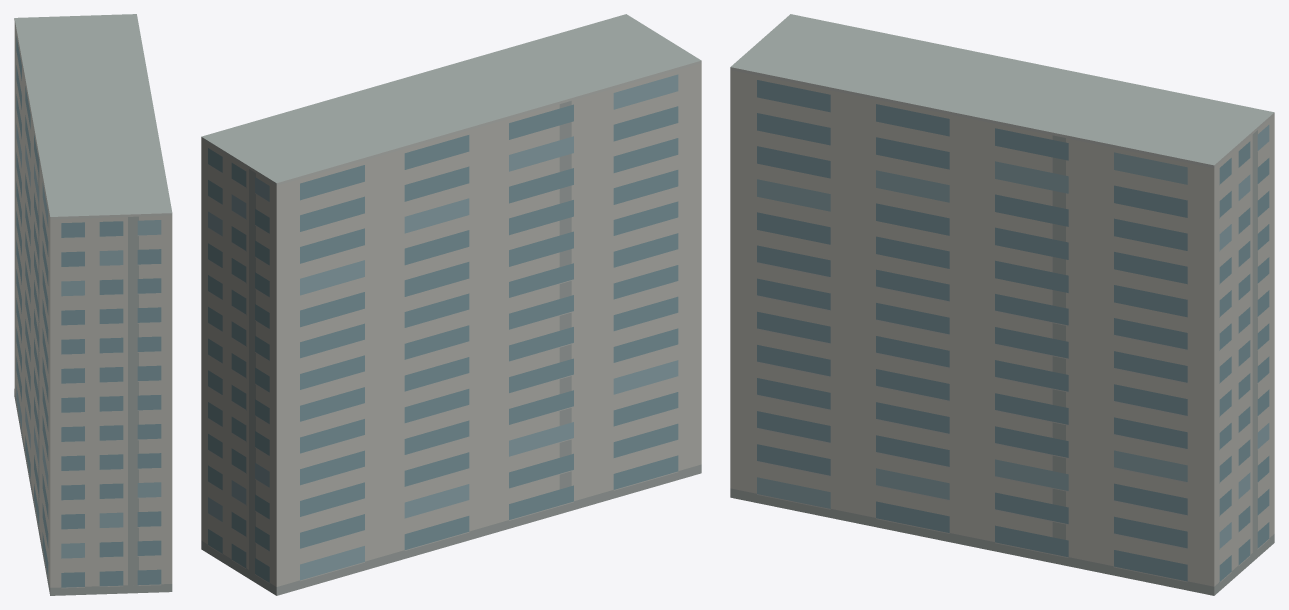
File: residential-c2d569c7-087c-4e21-99ed-72bd0e66d18b.glb
3 views of the same model, side by side, from view 1: azimuth 30°, elevation 25°; view 2: azimuth 150°, elevation 25°; view 3: azimuth 270°, elevation 25° (orthographic). The views are drawn at different scales.
Parts seen in each view (by area): view 1: residential-c2d569c7-087c-4e21-99ed-72bd0e66d18b.tmp; view 2: residential-c2d569c7-087c-4e21-99ed-72bd0e66d18b.tmp; view 3: residential-c2d569c7-087c-4e21-99ed-72bd0e66d18b.tmp.
Part boxes in pixels (x1,y1,x2,y2): residential-c2d569c7-087c-4e21-99ed-72bd0e66d18b.tmp: [14, 14, 172, 595]; residential-c2d569c7-087c-4e21-99ed-72bd0e66d18b.tmp: [201, 14, 701, 595]; residential-c2d569c7-087c-4e21-99ed-72bd0e66d18b.tmp: [730, 14, 1274, 595].
Size of the model in its own units: 28.67 by 38 by 43.55.
